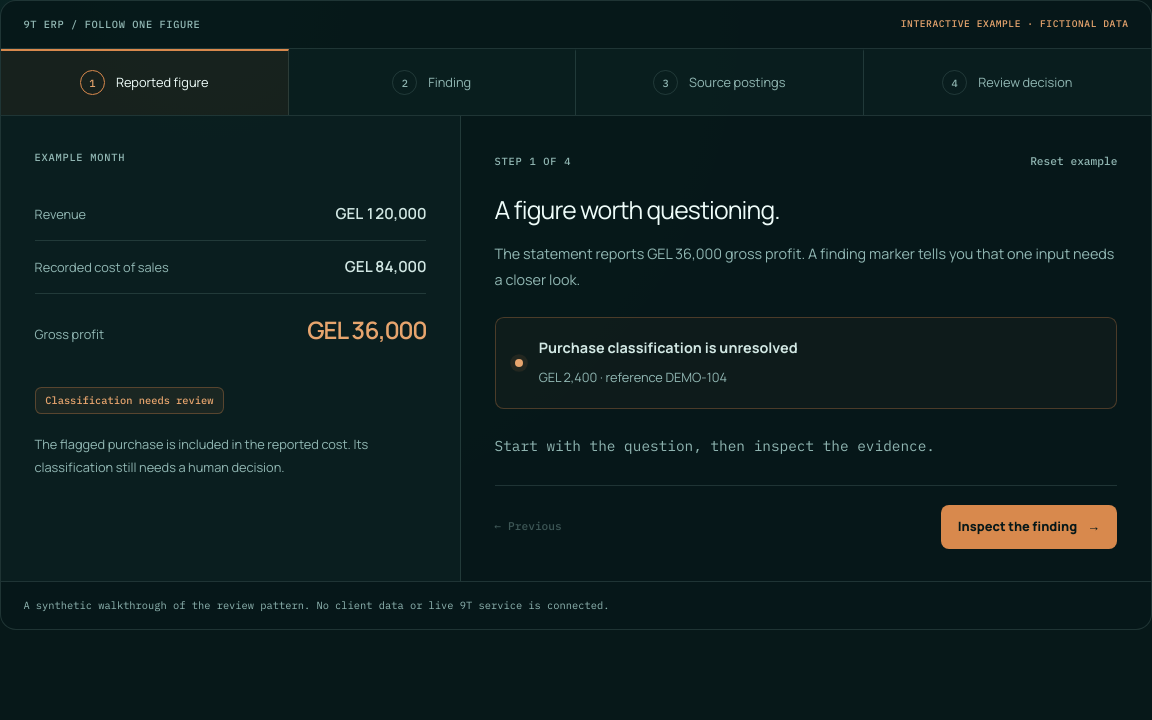
it: 9T fictional financial review › reconciles source costs and preserves the reported figure when a review is recorded
Click the button "3 Source postings" at (720, 82), box 576,49 -> 864,115
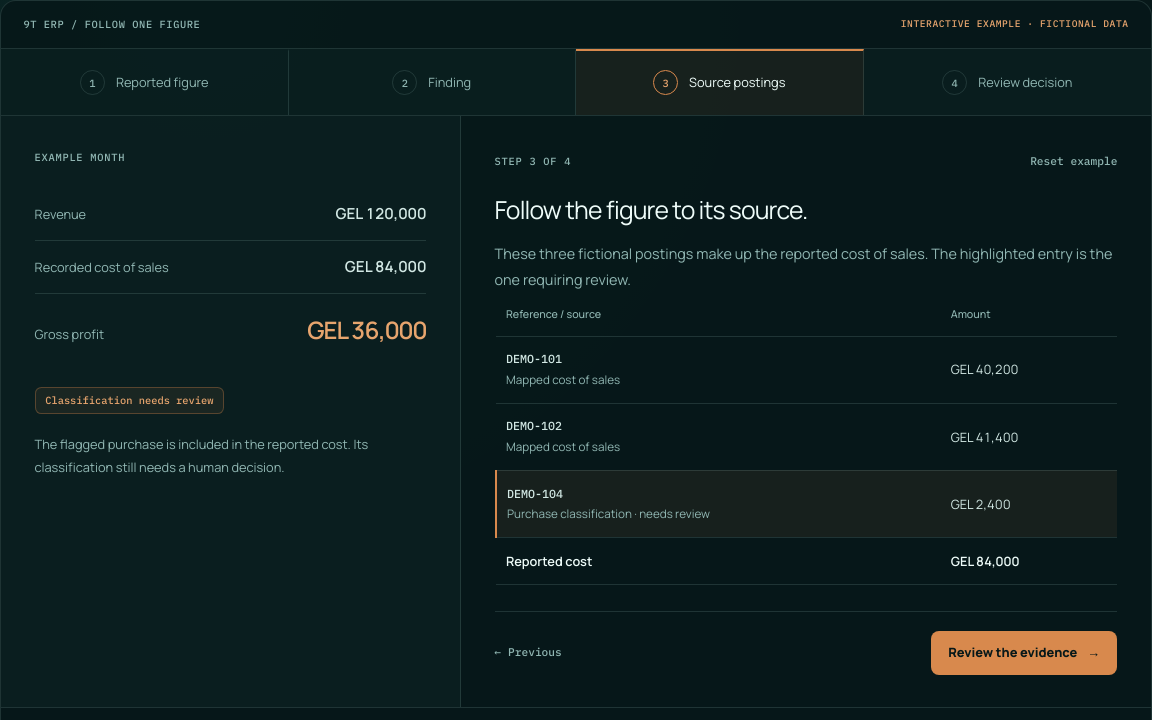
Result: the table shows "DEMO-104" at 507,486 -> 563,501
Result: the table shows "GEL 84,000" at 951,552 -> 1019,570
Click the button "4 Review decision" at (1007, 82), box 864,49 -> 1151,115
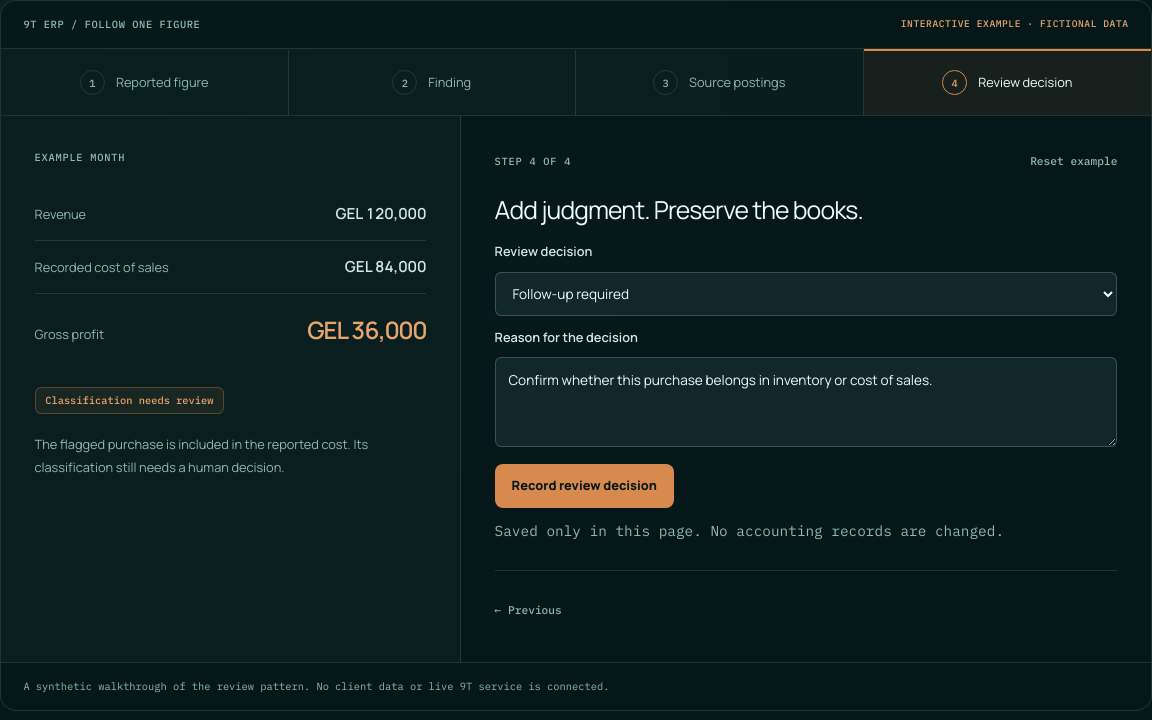
Replace the text in the text box labelled "Reason for the decision" with "Ask accounting to verify the purchase classification." at (806, 402), box 495,358 -> 1117,447
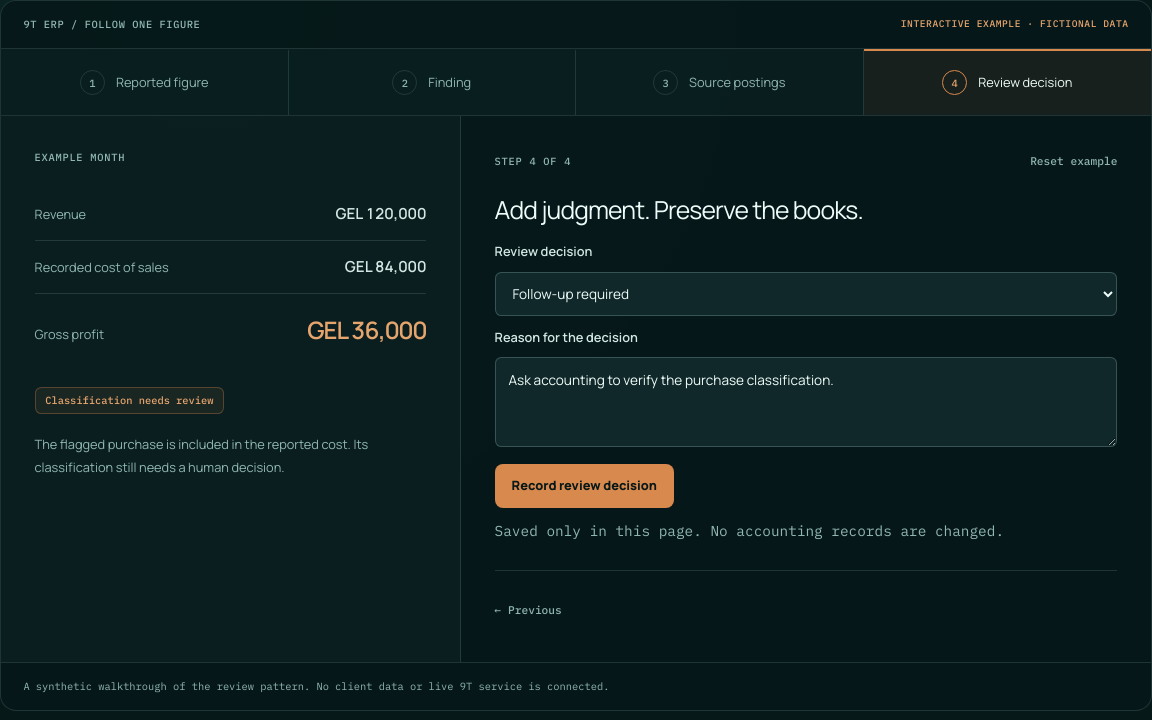
Click the button "Record review decision" at (584, 486), box 495,464 -> 674,508
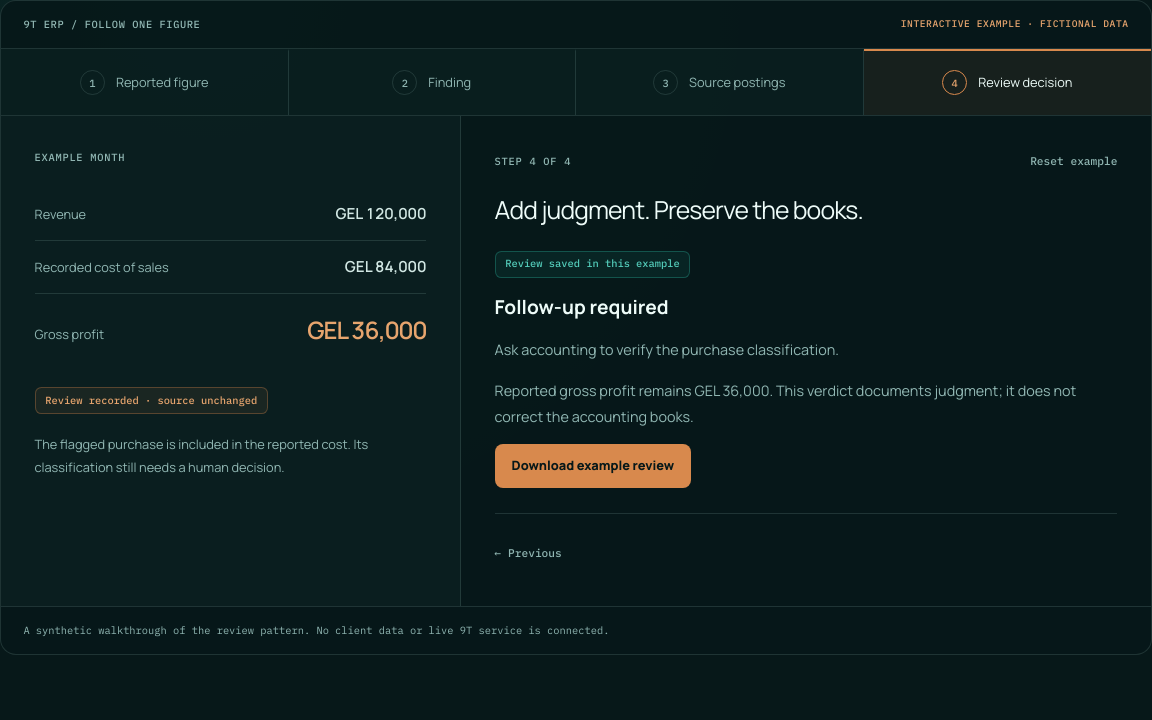
Expected: the text with test id "reported-profit" reads "GEL 36,000", 307,313 -> 426,346
Result: the message shows "Ask accounting to verify the purchase classification." at 495,340 -> 839,359
Result: the message shows "does not correct the accounting books" at 495,381 -> 1076,426
Click the button "Reset example" at (1074, 161), box 1030,141 -> 1117,181
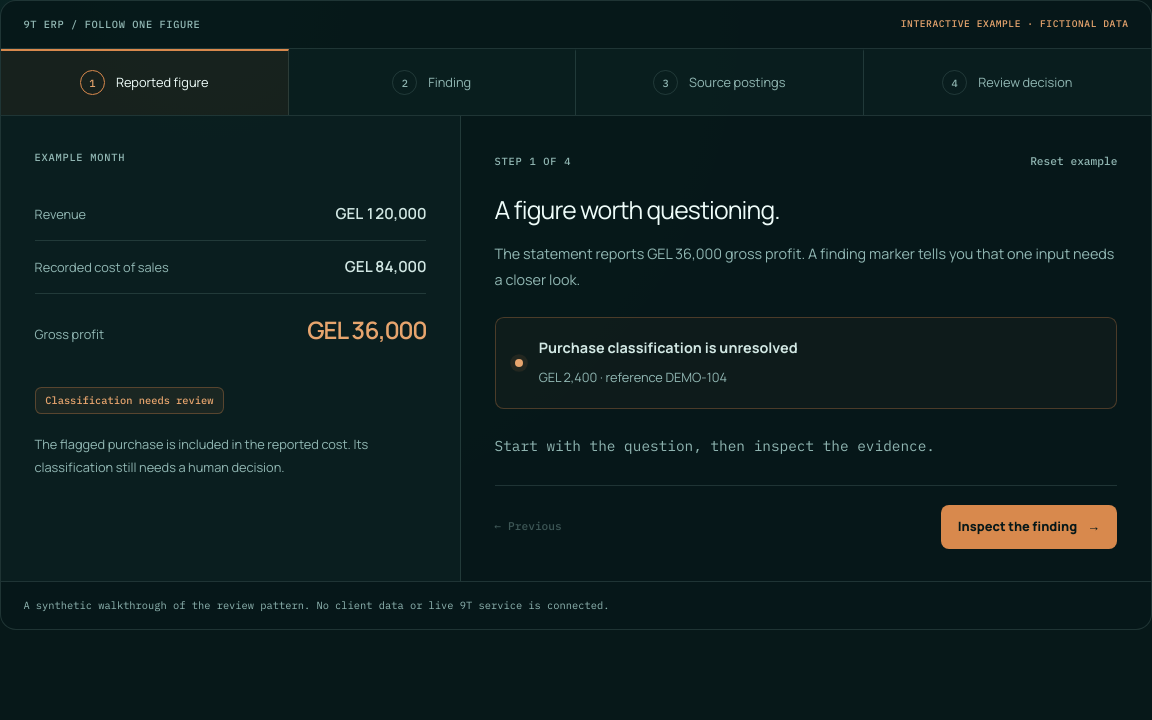
Result: the message is gone
